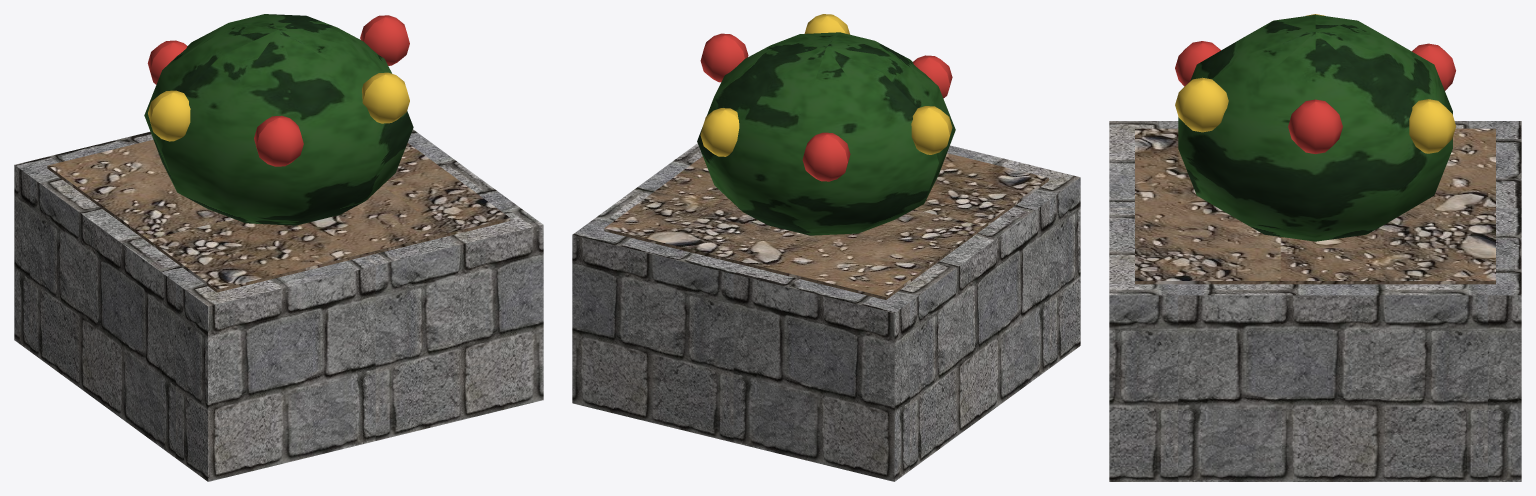
File: jardinera.glb
The picture shows the model from 3 angles, left to right: view 1: azimuth 30°, elevation 25°; view 2: azimuth 150°, elevation 25°; view 3: azimuth 270°, elevation 25°; orthographic projection. The views are drawn at different scales.
Parts seen in each view (by area): view 1: pieza; view 2: pieza; view 3: pieza.
Boxes of the visible parts, x1,y1,x2,y2 form: pieza: [14, 14, 543, 481]; pieza: [572, 14, 1080, 481]; pieza: [1109, 14, 1521, 481].
Size of the model in its own units: 1.2 by 1.17 by 1.2.
5 materials, 3 textured.
